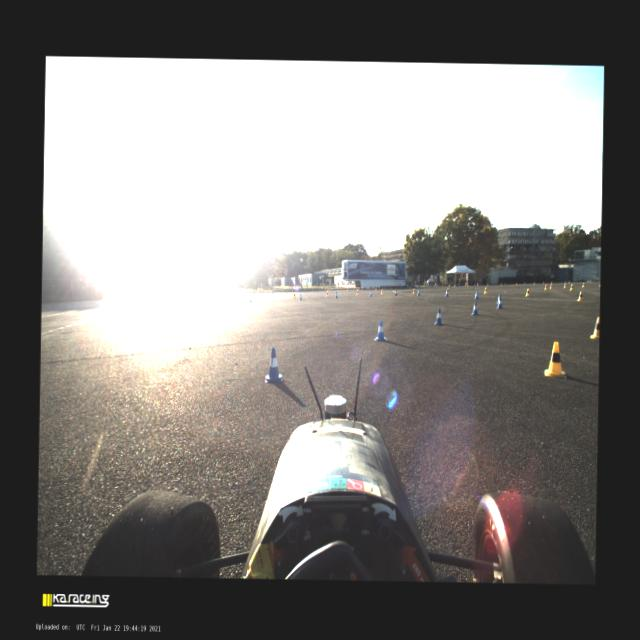blue_cone: (264, 346, 282, 382), (374, 320, 388, 340), (434, 308, 444, 324), (470, 301, 479, 315), (496, 296, 503, 308), (497, 293, 502, 303), (473, 290, 479, 298), (368, 290, 372, 296), (334, 292, 338, 298), (299, 293, 302, 300), (445, 289, 448, 296), (416, 289, 419, 295), (394, 290, 397, 296), (249, 296, 252, 302), (218, 296, 221, 302), (399, 286, 402, 289), (419, 284, 421, 288), (304, 289, 306, 292), (330, 288, 332, 291), (542, 281, 544, 284), (598, 284, 600, 286), (586, 280, 588, 282), (523, 282, 525, 284), (358, 288, 360, 290), (564, 281, 566, 283), (286, 290, 287, 293), (474, 283, 475, 286), (237, 291, 238, 294), (272, 290, 273, 293), (449, 284, 450, 287), (504, 282, 505, 284), (434, 285, 434, 288), (382, 287, 382, 289)
large_orange_cone: (464, 282, 466, 286), (477, 282, 478, 286)
yellow_cone: (544, 341, 566, 377), (590, 316, 600, 338), (576, 290, 582, 300), (524, 288, 530, 296), (483, 287, 487, 294), (569, 284, 573, 290), (548, 282, 552, 288), (292, 292, 296, 298), (563, 282, 566, 288), (581, 282, 584, 287), (544, 284, 546, 290), (447, 287, 449, 293), (326, 290, 328, 296), (356, 288, 358, 294), (380, 288, 382, 294), (412, 288, 414, 294), (243, 292, 245, 297), (252, 292, 254, 296), (270, 290, 272, 294), (311, 289, 313, 293), (346, 287, 348, 291), (448, 282, 450, 286), (258, 291, 260, 294), (374, 287, 376, 290), (453, 284, 455, 287), (515, 282, 517, 285), (532, 281, 534, 284), (588, 279, 590, 282), (225, 292, 226, 296), (424, 286, 426, 288), (487, 283, 488, 286), (501, 282, 502, 285), (568, 280, 569, 283), (467, 284, 468, 286), (238, 292, 239, 294), (439, 286, 440, 288), (292, 290, 292, 294), (396, 286, 396, 289), (410, 286, 410, 289)
